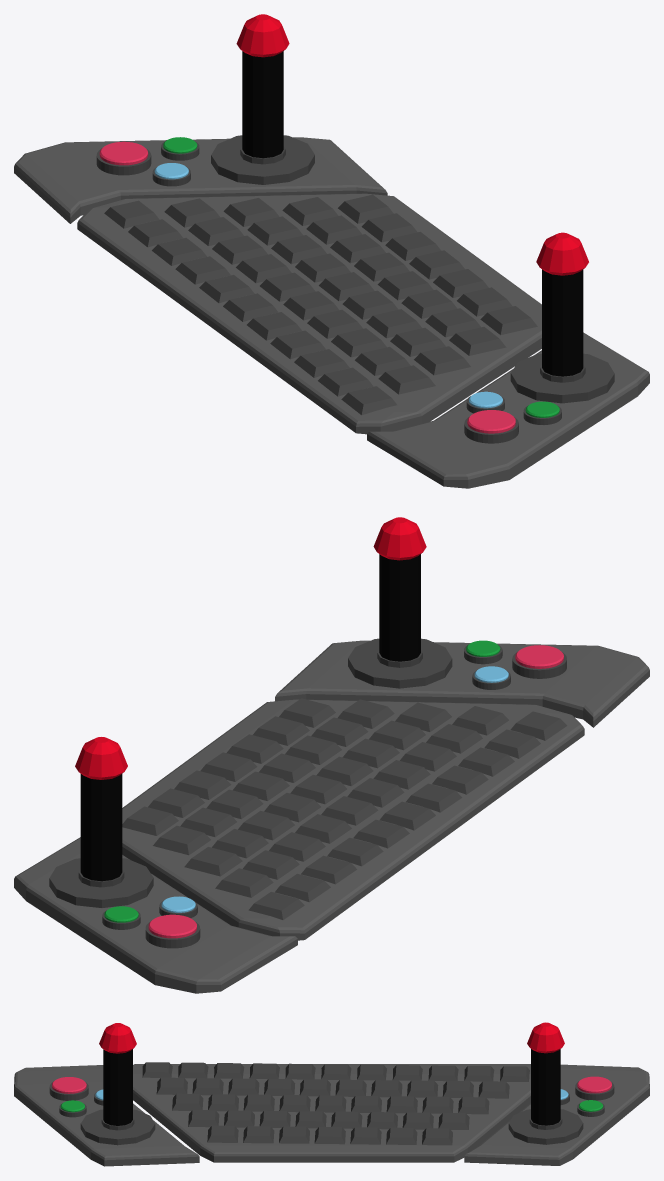
File: NewConsol.fbx
The picture shows the model from 3 angles, top to bottom: view 1: azimuth 30°, elevation 25°; view 2: azimuth 150°, elevation 25°; view 3: azimuth 270°, elevation 25°; orthographic projection. The views are drawn at different scales.
Visible parts, largest first — view 1: NewConsol; view 2: NewConsol; view 3: NewConsol.
Part boxes in pixels (bbox=[...]): NewConsol: bbox=[14, 14, 649, 488]; NewConsol: bbox=[14, 517, 649, 993]; NewConsol: bbox=[14, 1022, 649, 1166].
Size of the model in its own units: 17.82 by 10.02 by 50.17.
